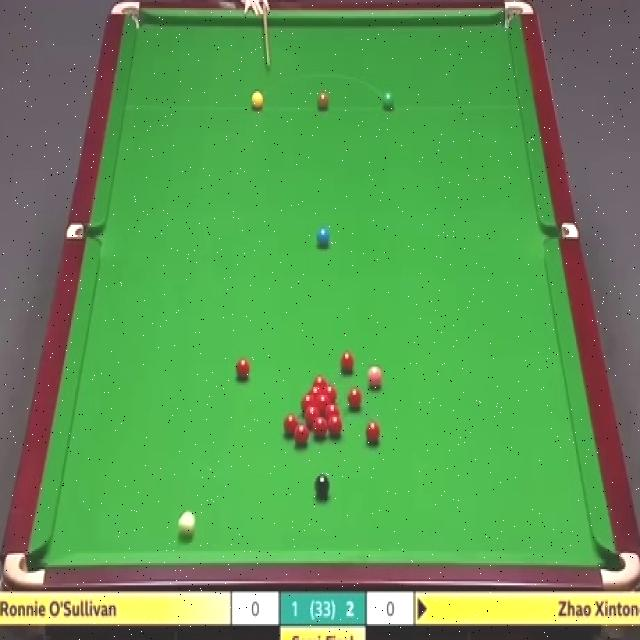black-ball: (315, 473, 330, 499)
blue-ball: (316, 227, 330, 245)
brown-ball: (316, 93, 330, 110)
green-ball: (381, 89, 396, 113)
pink-ball: (367, 366, 383, 388), (316, 368, 332, 384)
red-ball: (293, 422, 310, 447), (365, 420, 381, 445), (312, 417, 327, 443), (340, 351, 355, 376), (348, 385, 362, 411), (326, 416, 343, 437), (305, 407, 321, 428), (283, 413, 298, 435), (237, 358, 250, 382), (302, 393, 315, 414), (309, 384, 322, 399), (324, 383, 336, 399), (324, 404, 338, 416)
white-ball: (178, 510, 194, 541)
yellow-ball: (250, 90, 264, 111)
